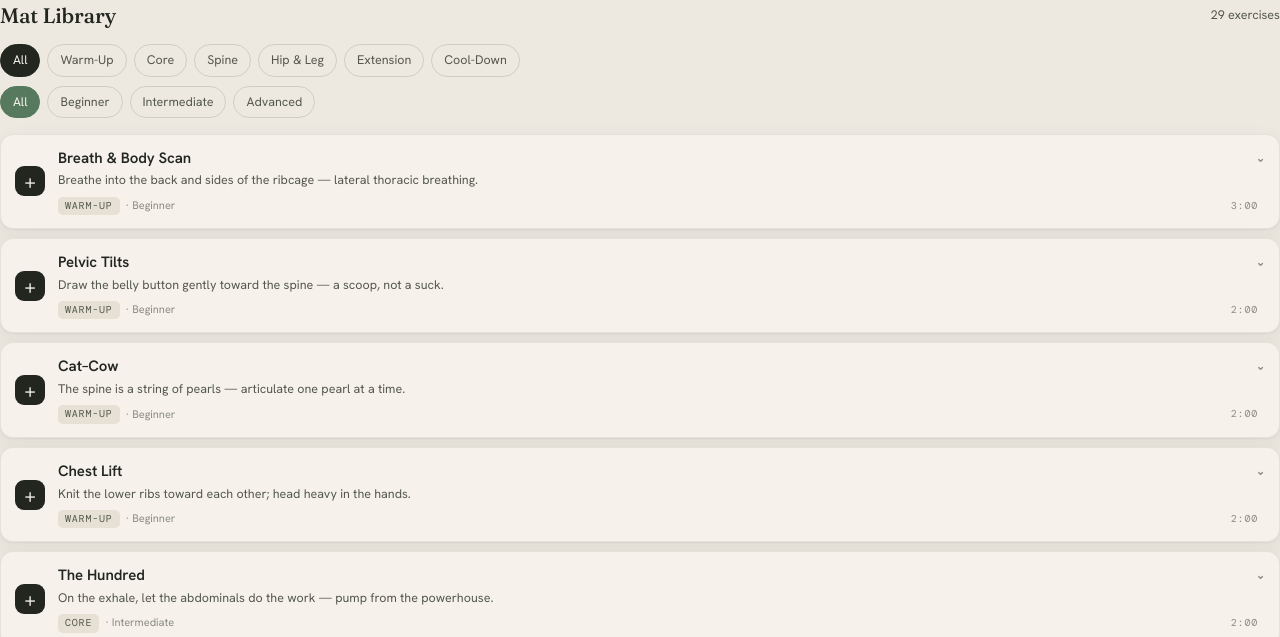
it: Accessibility › exposes aria-expanded on the card toggle and updates it on click
The image size is (1280, 637).
Click the button "Breath & Body Scan" at (125, 158), box [58, 148, 1265, 215]
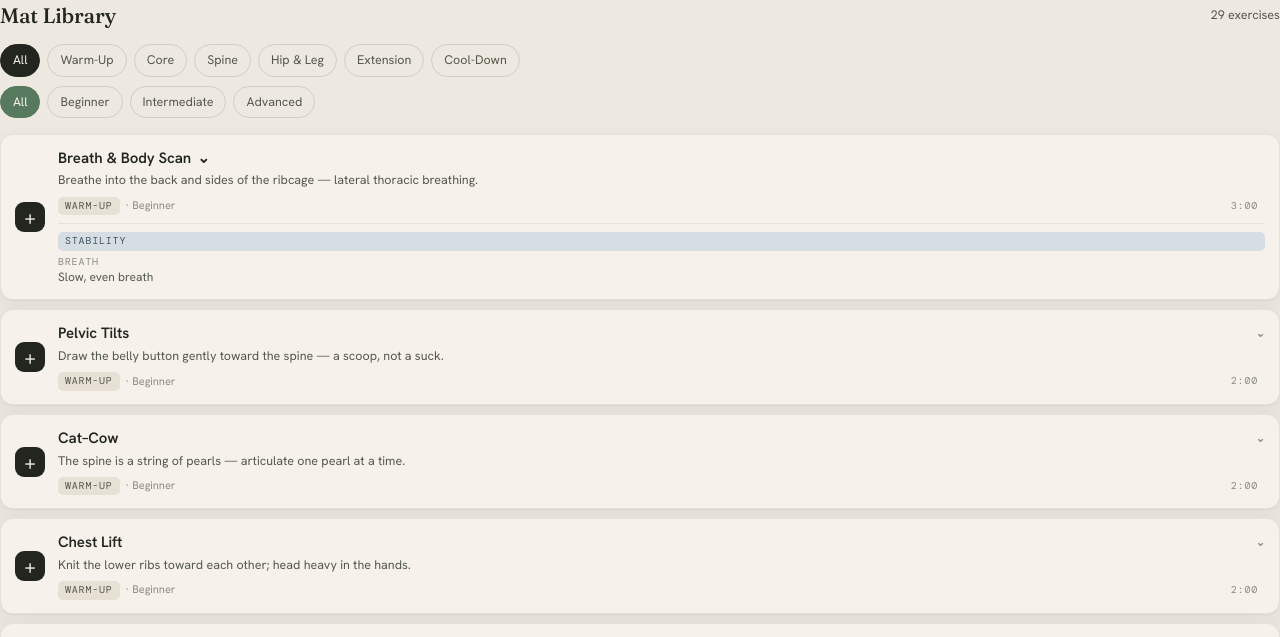
Expected: the button "Breath & Body Scan" is expanded, [58, 148, 1265, 286]
